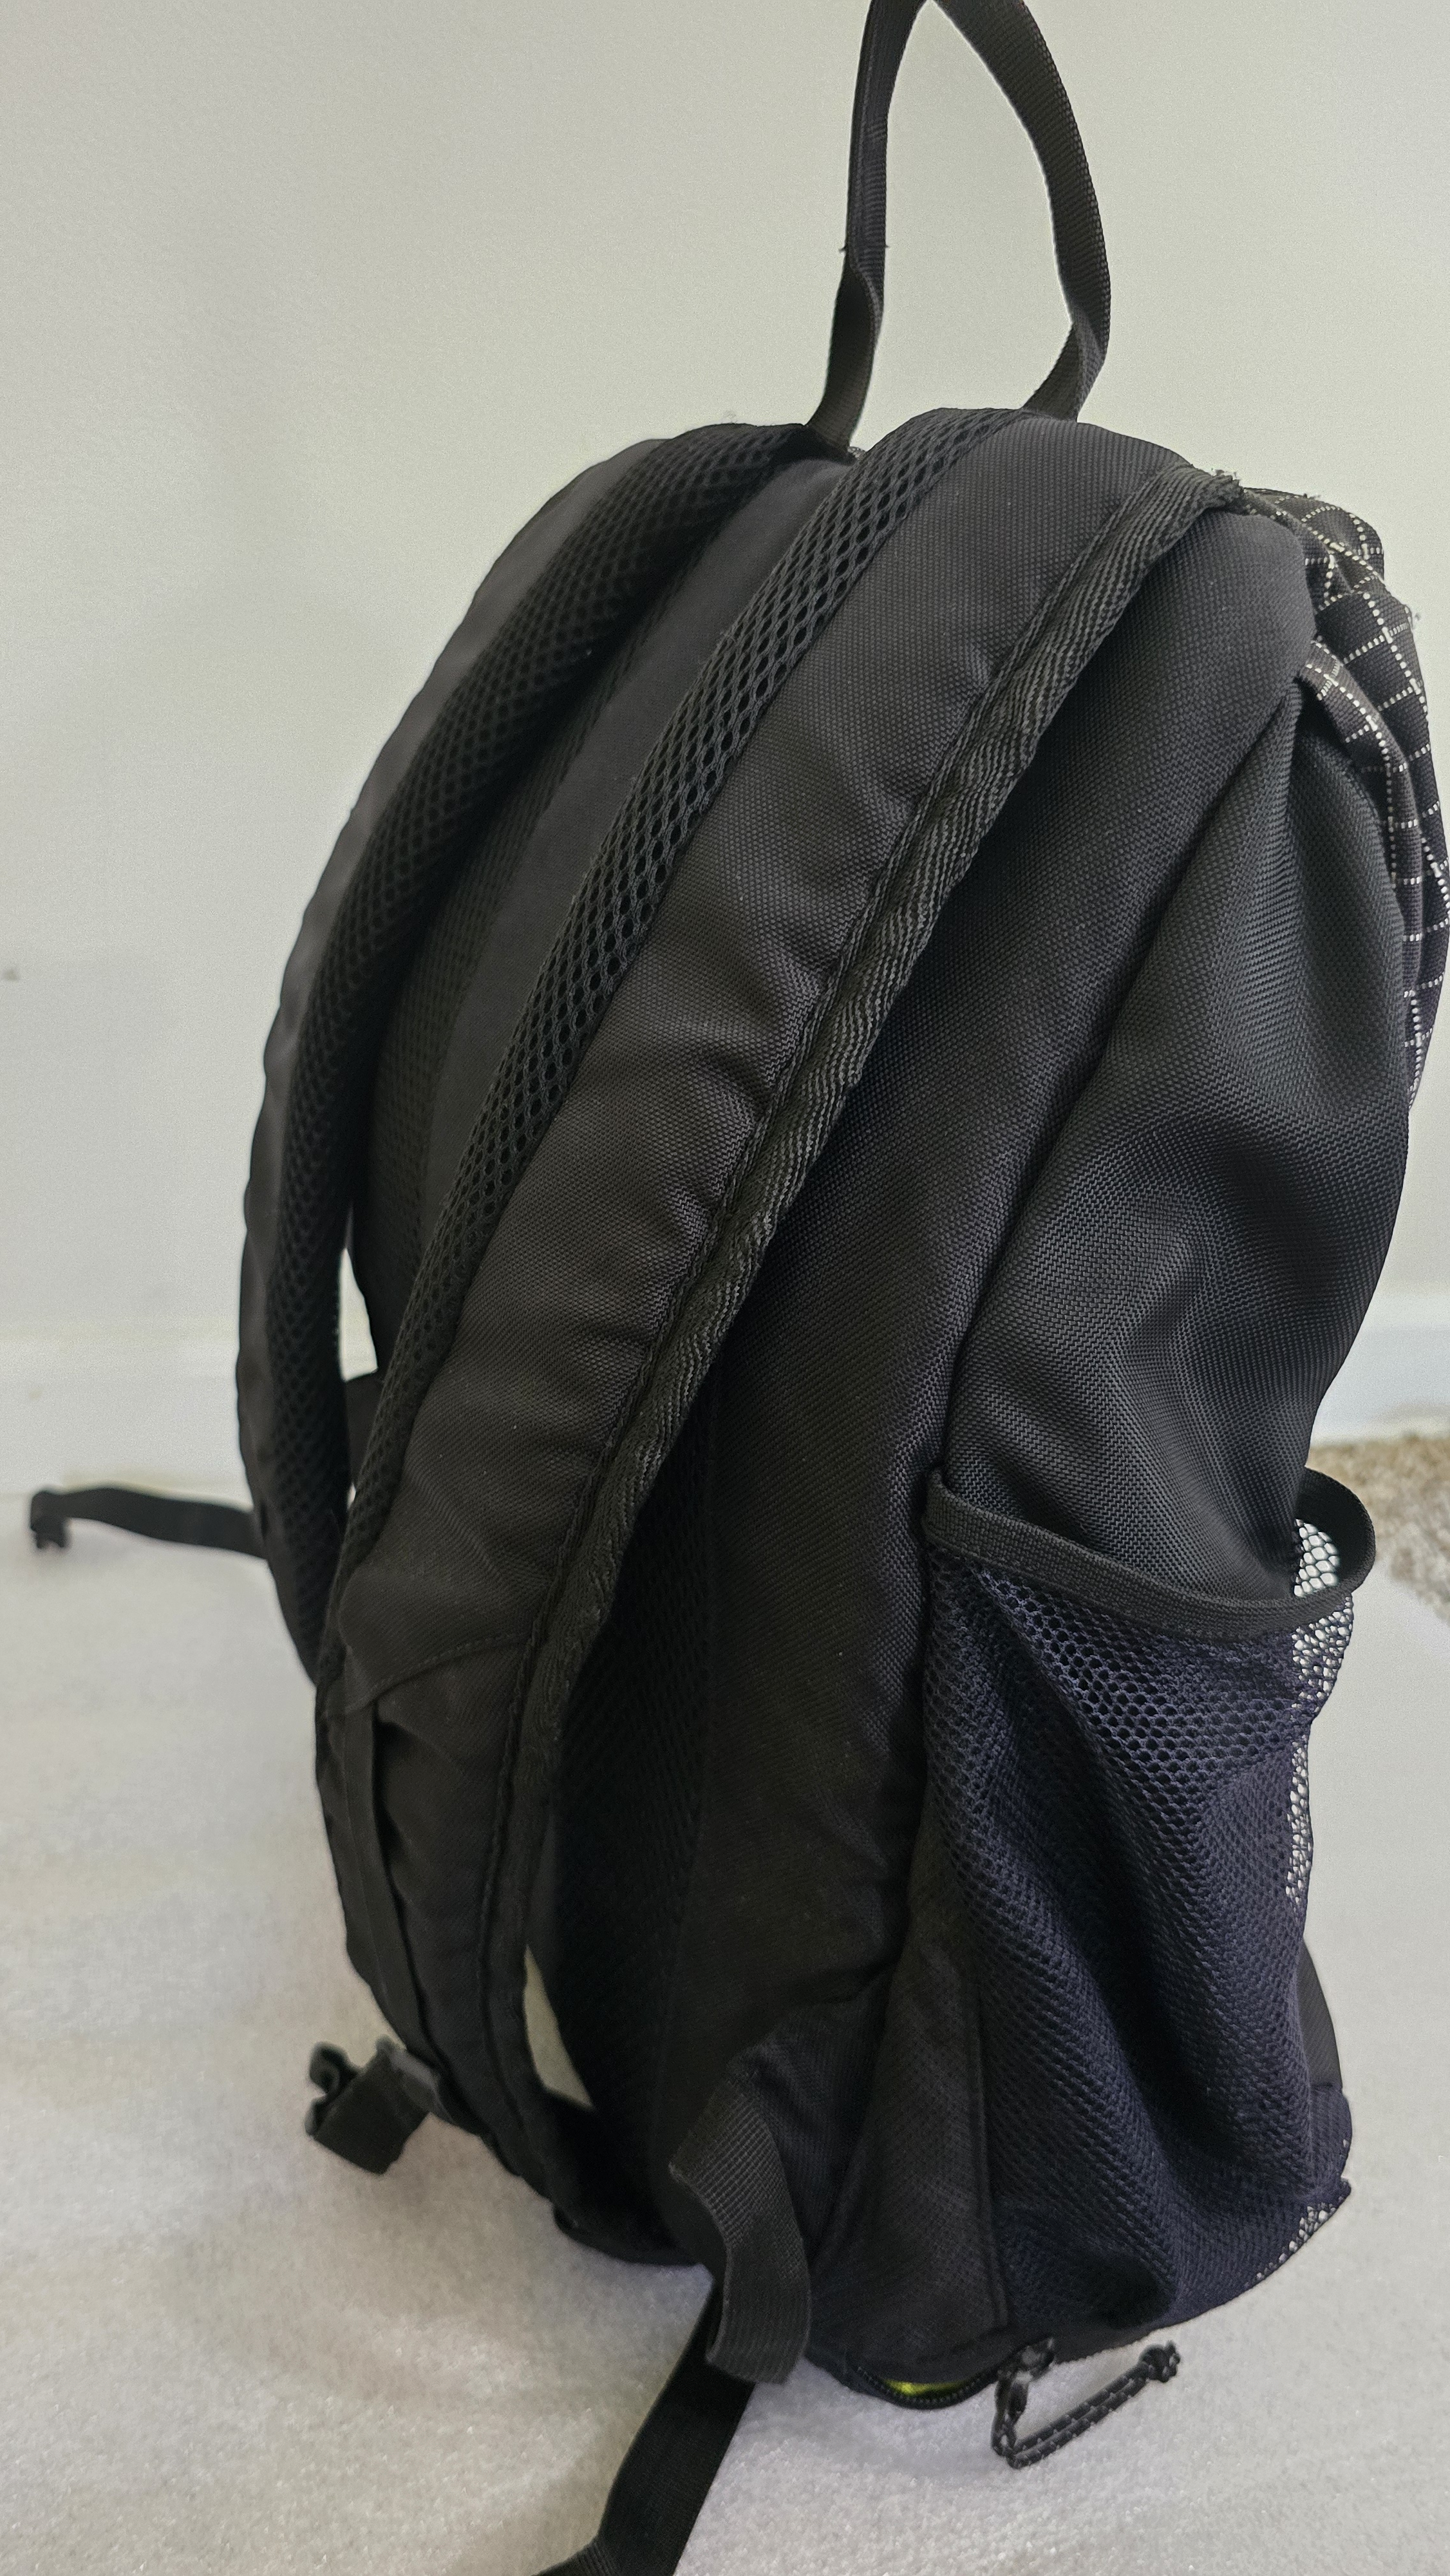bag: (229, 1, 1418, 2415)
